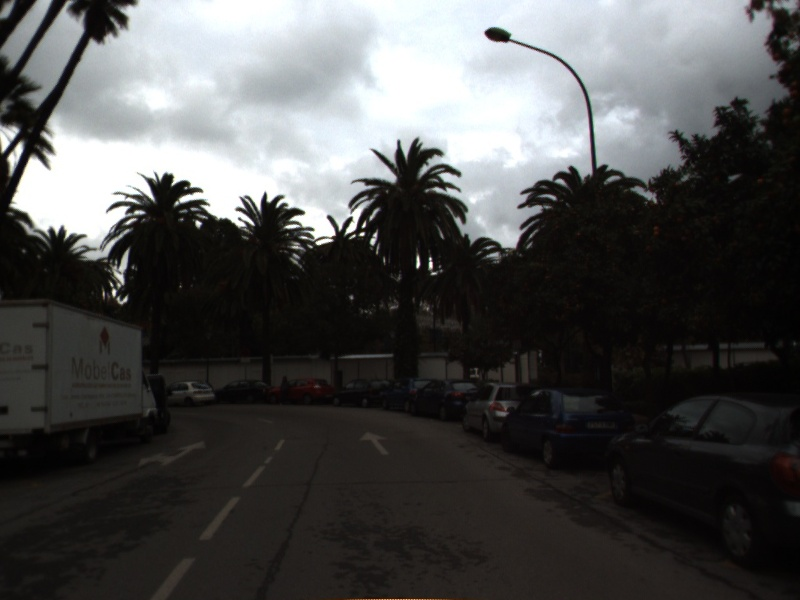STRAIGHT: (357, 429, 392, 458)
STRAIGHT_LEFT: (135, 437, 209, 471)
